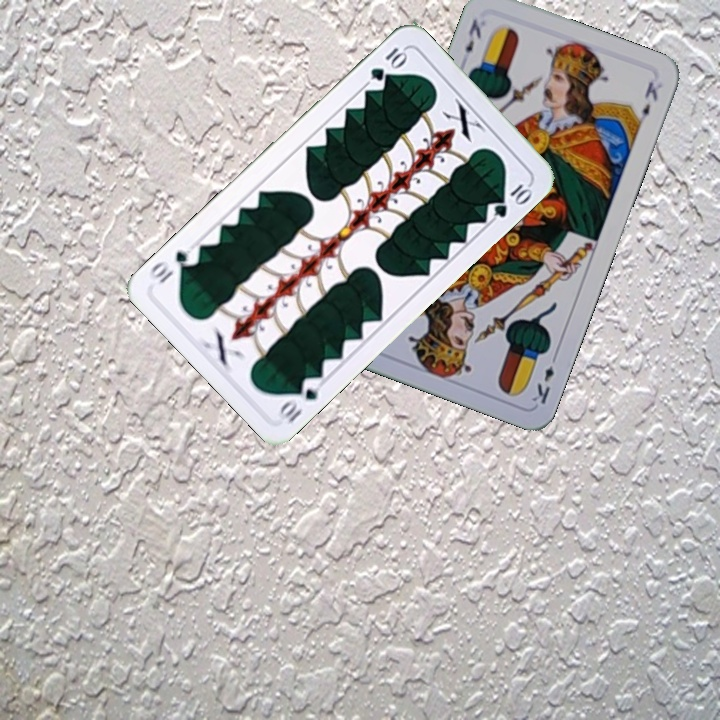EK: (528, 349, 561, 407), (461, 14, 484, 55)
G10: (275, 372, 326, 427), (366, 43, 411, 84)
